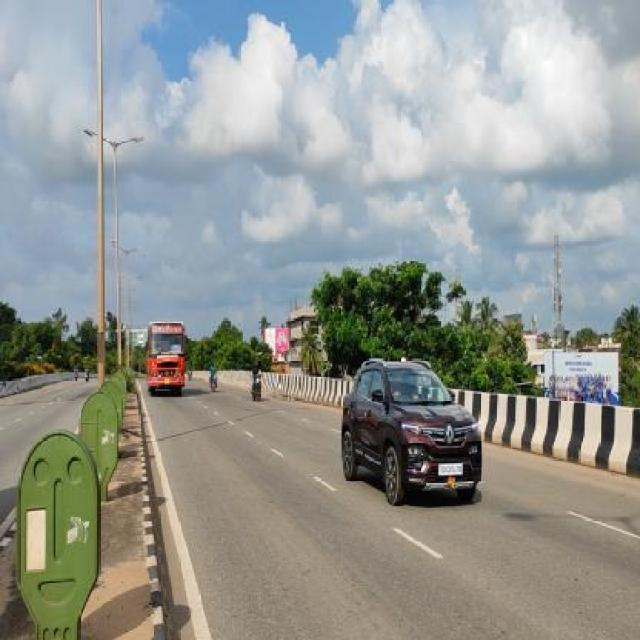vehicle: (340, 348, 493, 514)
